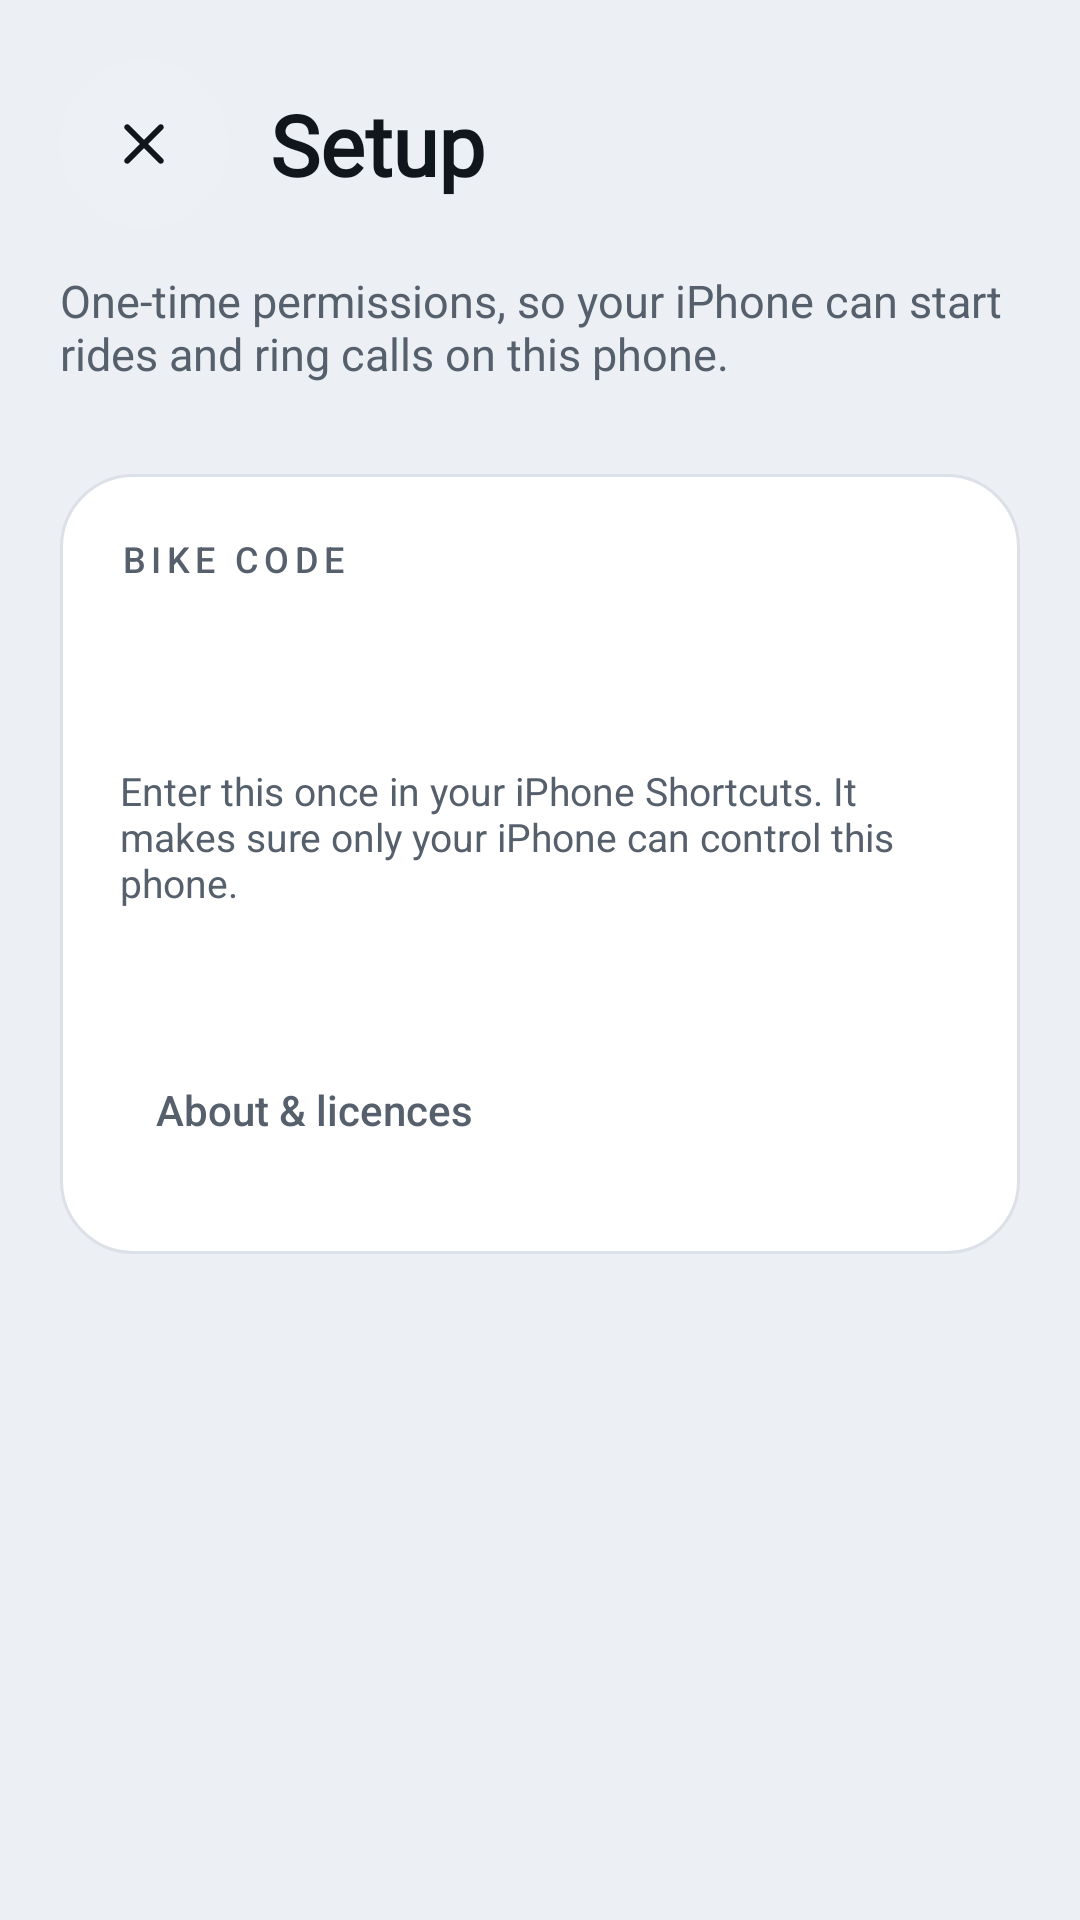

Where icons sit on this 1080x1920 app screen, as (x1, y1, x2, y2):
close: (124, 124, 164, 164)
